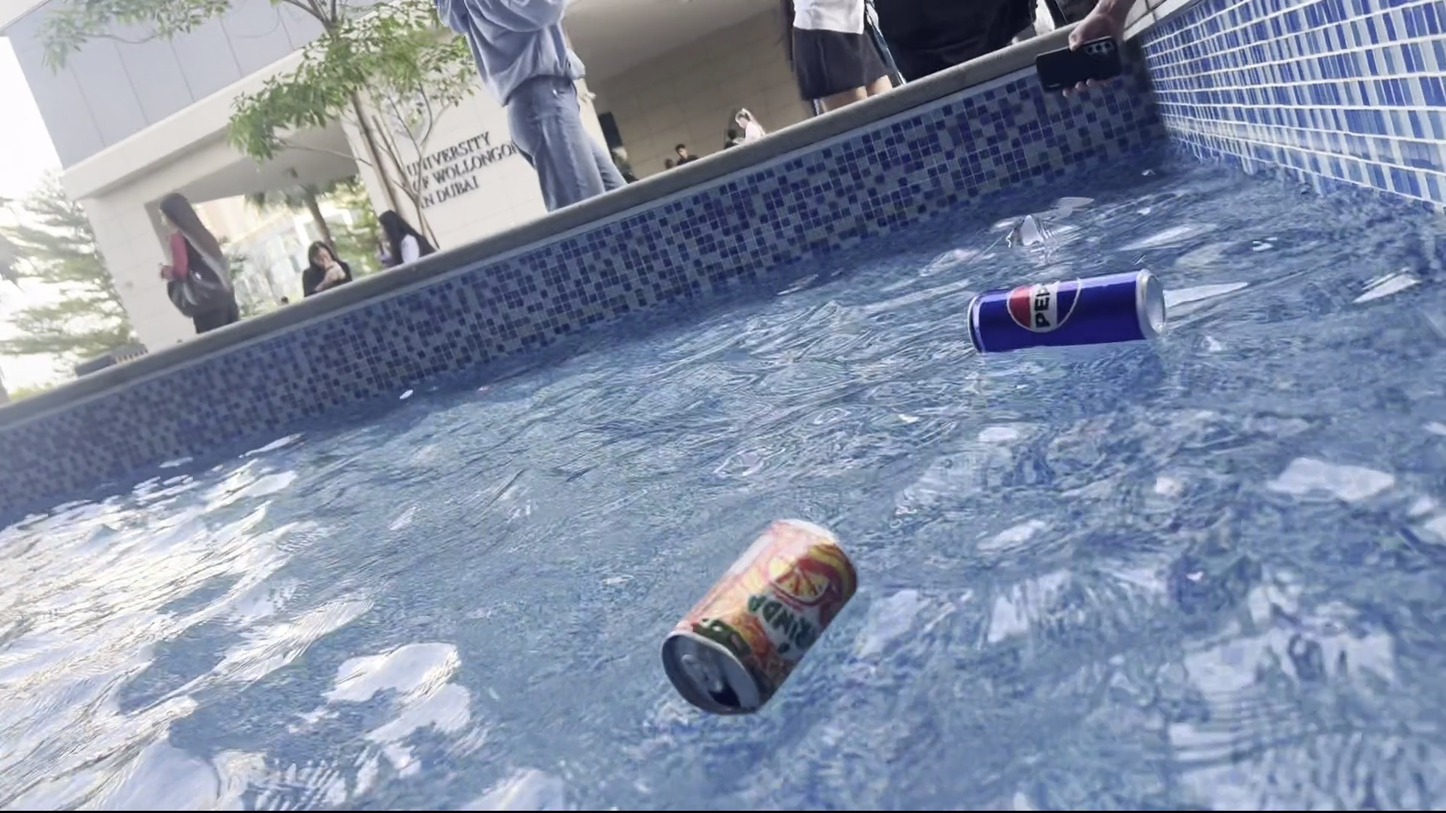debris: (654, 496, 868, 726), (961, 251, 1174, 368)
